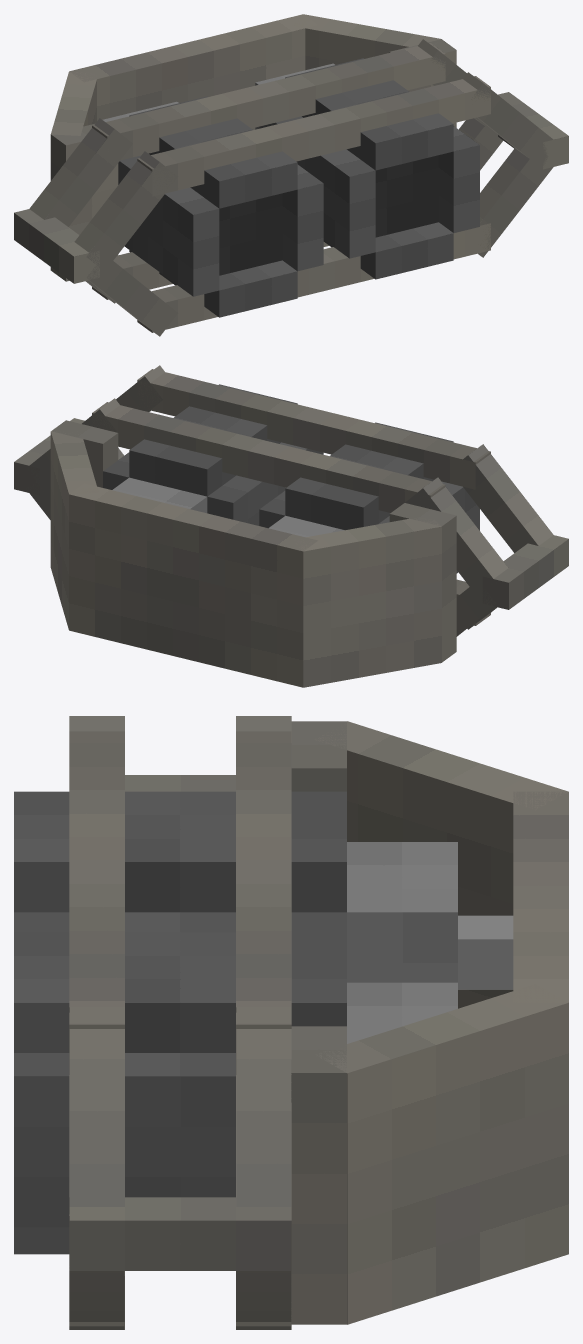
3 views of the same model, one above another, from view 1: azimuth 30°, elevation 25°; view 2: azimuth 150°, elevation 25°; view 3: azimuth 270°, elevation 25° (orthographic). The views are drawn at different scales.
Parts seen in each view (by area): view 1: Draco; view 2: Draco; view 3: Draco.
Part boxes in pixels (x1,y1,x2,y2): Draco: [14, 14, 568, 336]; Draco: [14, 365, 568, 687]; Draco: [14, 716, 568, 1329].
Size of the model in its own units: 1.19 by 0.4009 by 0.625.
